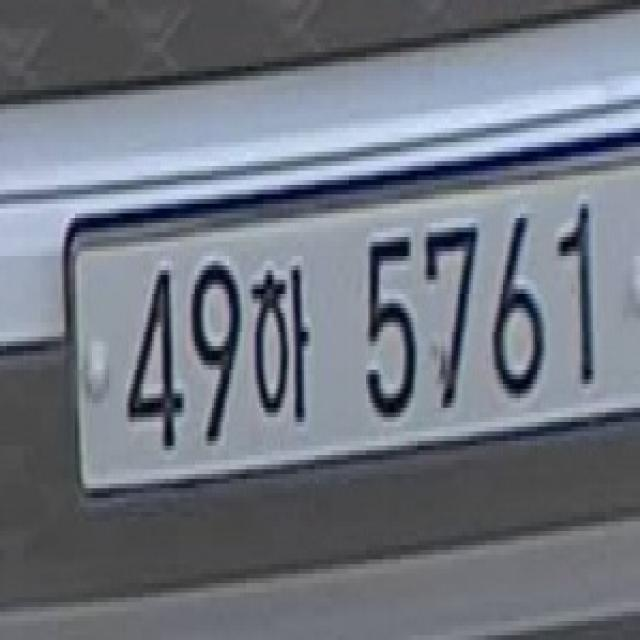1: (552, 194, 608, 404)
4: (128, 258, 186, 460)
5: (360, 230, 414, 424)
6: (490, 205, 548, 406)
7: (424, 206, 482, 426)
9: (190, 254, 246, 462)
ha: (250, 247, 326, 437)
license_plate: (46, 152, 634, 501)
